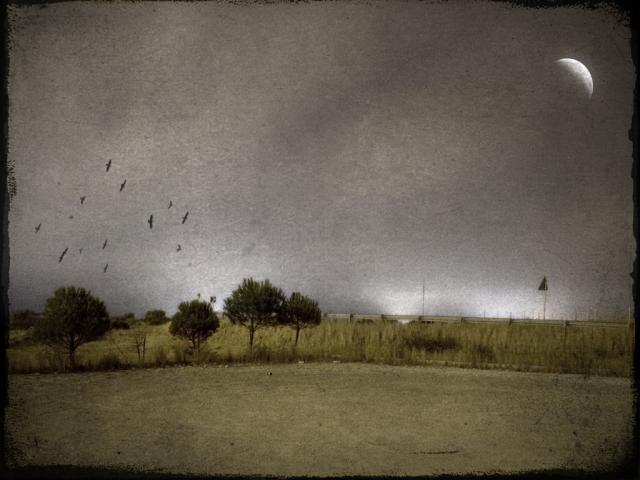Bird: (146, 214, 156, 231), (181, 211, 191, 224), (104, 157, 112, 172), (80, 196, 88, 208), (119, 181, 127, 193), (61, 245, 70, 255), (168, 198, 174, 209), (176, 241, 182, 250), (104, 263, 108, 276), (36, 223, 40, 233), (78, 247, 84, 253), (104, 242, 108, 249), (59, 255, 62, 264)
